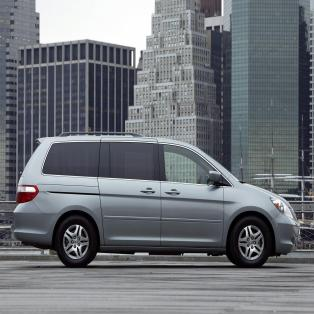Auto: (9, 129, 302, 270)
